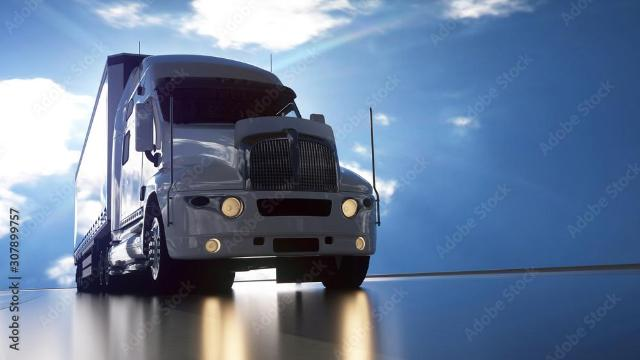truck: (47, 52, 402, 287)
